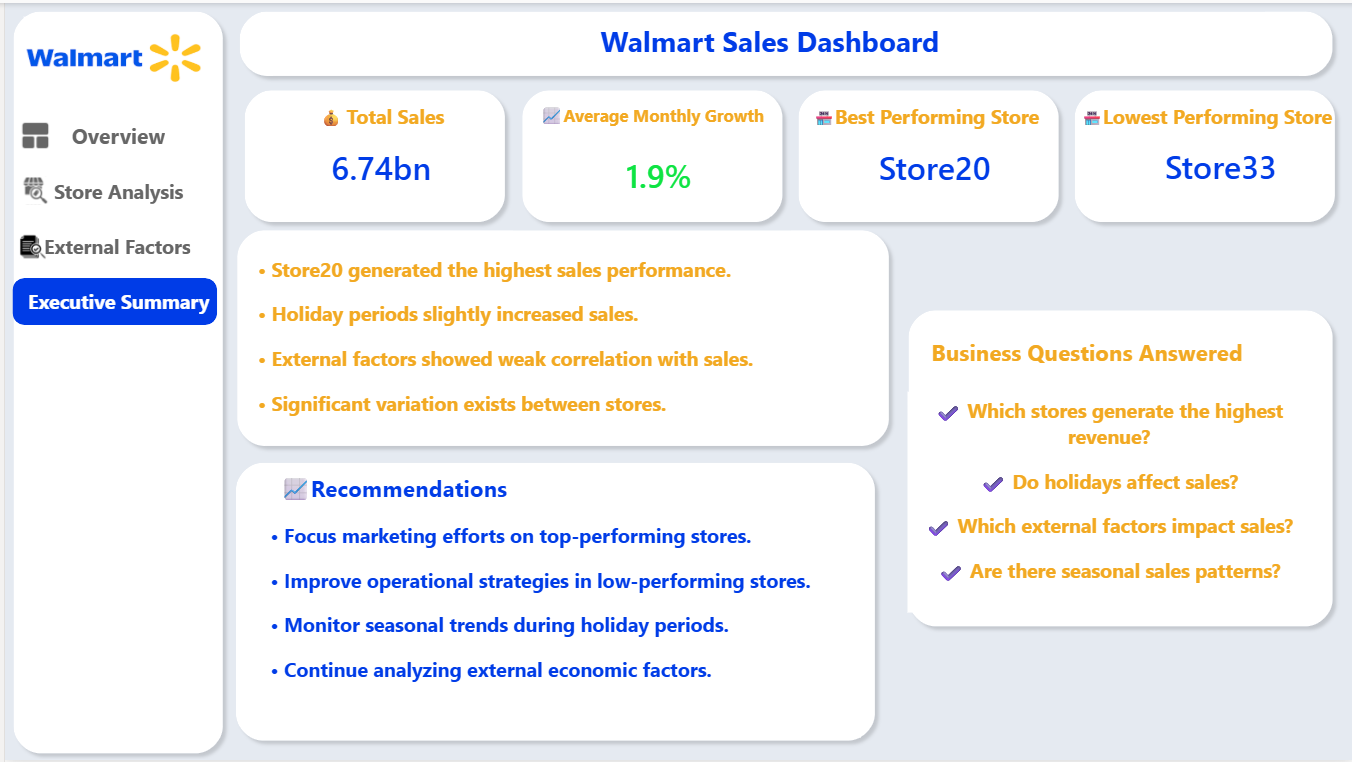

The dashboard page shown, as its layout file describes it:
{"tool":"powerbi","page":{"name":"Executive Summary","canvas":[1280,720],"ordinal":3},"visuals":[{"type":"shape","box":[0,0,214.7,720.2],"z":0},{"type":"shape","box":[214.7,0,1053.2,77.2],"z":1000},{"type":"textbox","box":[255.8,13.3,939.8,50.7],"z":2000},{"type":"image","box":[18.1,13.3,170.1,77.2],"z":3000},{"type":"shape","box":[212.3,207.5,634.6,220.8],"z":4000},{"type":"shape","box":[211.1,428.3,622.5,279.9],"z":5000},{"type":"actionButton","box":[12.1,103.8,191.8,44.6],"z":6000},{"type":"actionButton","box":[12.1,155.6,191.8,45.8],"z":7000},{"type":"actionButton","box":[9.7,208.7,194.2,44.6],"z":8000},{"type":"shape","box":[744.7,75.1,263,141.2],"z":10000},{"type":"shape","box":[220.1,75.1,263,141.2],"z":11000},{"type":"shape","box":[482.4,75.1,263,141.2],"z":12000},{"type":"textbox","box":[254.6,90.5,205.1,43.4],"z":13000},{"type":"cardVisual","fields":{"Data":["Measure Table.Total Sales"]},"box":[265.4,120.6,183.4,67.6],"z":14000},{"type":"textbox","box":[757.6,90.5,232.8,43.4],"z":15000},{"type":"cardVisual","fields":{"Data":["Measure Table.Highest Sales Store"]},"box":[798.7,120.6,168.9,68.8],"z":16000},{"type":"shape","box":[1007,75.1,263,141.2],"z":17000},{"type":"textbox","box":[1017,90.5,263,43.4],"z":18000},{"type":"cardVisual","fields":{"Data":["Measure Table.Lowest Sales Store"]},"box":[1070.1,119.4,168.9,68.8],"z":19000},{"type":"shape","box":[849.3,283.5,418.6,316.1],"z":20000},{"type":"textbox","box":[255.8,441.6,390.9,42.2],"z":21000},{"type":"textbox","box":[492.2,90.5,243.7,43.4],"z":23000},{"type":"cardVisual","fields":{"Data":["Measure Table.Avg Monthly Growth"]},"box":[529.6,127.9,183.4,67.6],"z":24000},{"type":"textbox","box":[235.3,235.3,589.9,166.5],"z":25000},{"type":"textbox","box":[247.3,487.4,565.8,209.9],"z":26000},{"type":"textbox","box":[856.6,369.2,382.4,209.9],"z":27000},{"type":"textbox","box":[874.7,312.5,390.9,42.2],"z":28000},{"type":"actionButton","box":[7.2,260.6,194.2,44.6],"z":29000}]}

Visuals, with their boxes in screenshot pixels (x1, y1, x2, y2), scaled from the page's 1280x720 canvas onto the 1352x762 screenshot:
shape: locate(0, 0, 227, 761)
shape: locate(227, 0, 1339, 82)
textbox: locate(270, 14, 1263, 68)
image: locate(19, 14, 199, 96)
shape: locate(224, 220, 895, 453)
shape: locate(223, 453, 880, 750)
actionButton: locate(13, 110, 215, 157)
actionButton: locate(13, 165, 215, 213)
actionButton: locate(10, 221, 215, 268)
shape: locate(787, 79, 1064, 229)
shape: locate(232, 79, 510, 229)
shape: locate(510, 79, 787, 229)
textbox: locate(269, 96, 486, 142)
cardVisual - Measure Table.Total Sales: locate(280, 128, 474, 199)
textbox: locate(800, 96, 1046, 142)
cardVisual - Measure Table.Highest Sales Store: locate(844, 128, 1022, 200)
shape: locate(1064, 79, 1341, 229)
textbox: locate(1074, 96, 1351, 142)
cardVisual - Measure Table.Lowest Sales Store: locate(1130, 126, 1309, 199)
shape: locate(897, 300, 1339, 635)
textbox: locate(270, 467, 683, 512)
textbox: locate(520, 96, 777, 142)
cardVisual - Measure Table.Avg Monthly Growth: locate(559, 135, 753, 207)
textbox: locate(249, 249, 872, 425)
textbox: locate(261, 516, 859, 738)
textbox: locate(905, 391, 1309, 613)
textbox: locate(924, 331, 1337, 375)
actionButton: locate(8, 276, 213, 323)
